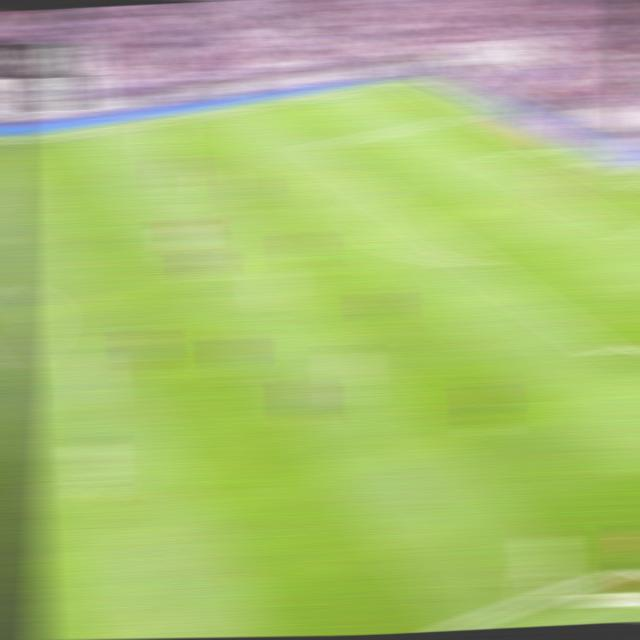bigarea_bottom_inner: (590, 341, 622, 365)
bigarea_top_inner: (302, 139, 327, 152)
bottom_arc_area_intersection: (461, 252, 492, 272)
corner: (391, 75, 419, 86)
smallarea_top_inner: (477, 154, 502, 165)
top_arc_area_intersection: (364, 184, 392, 199)
